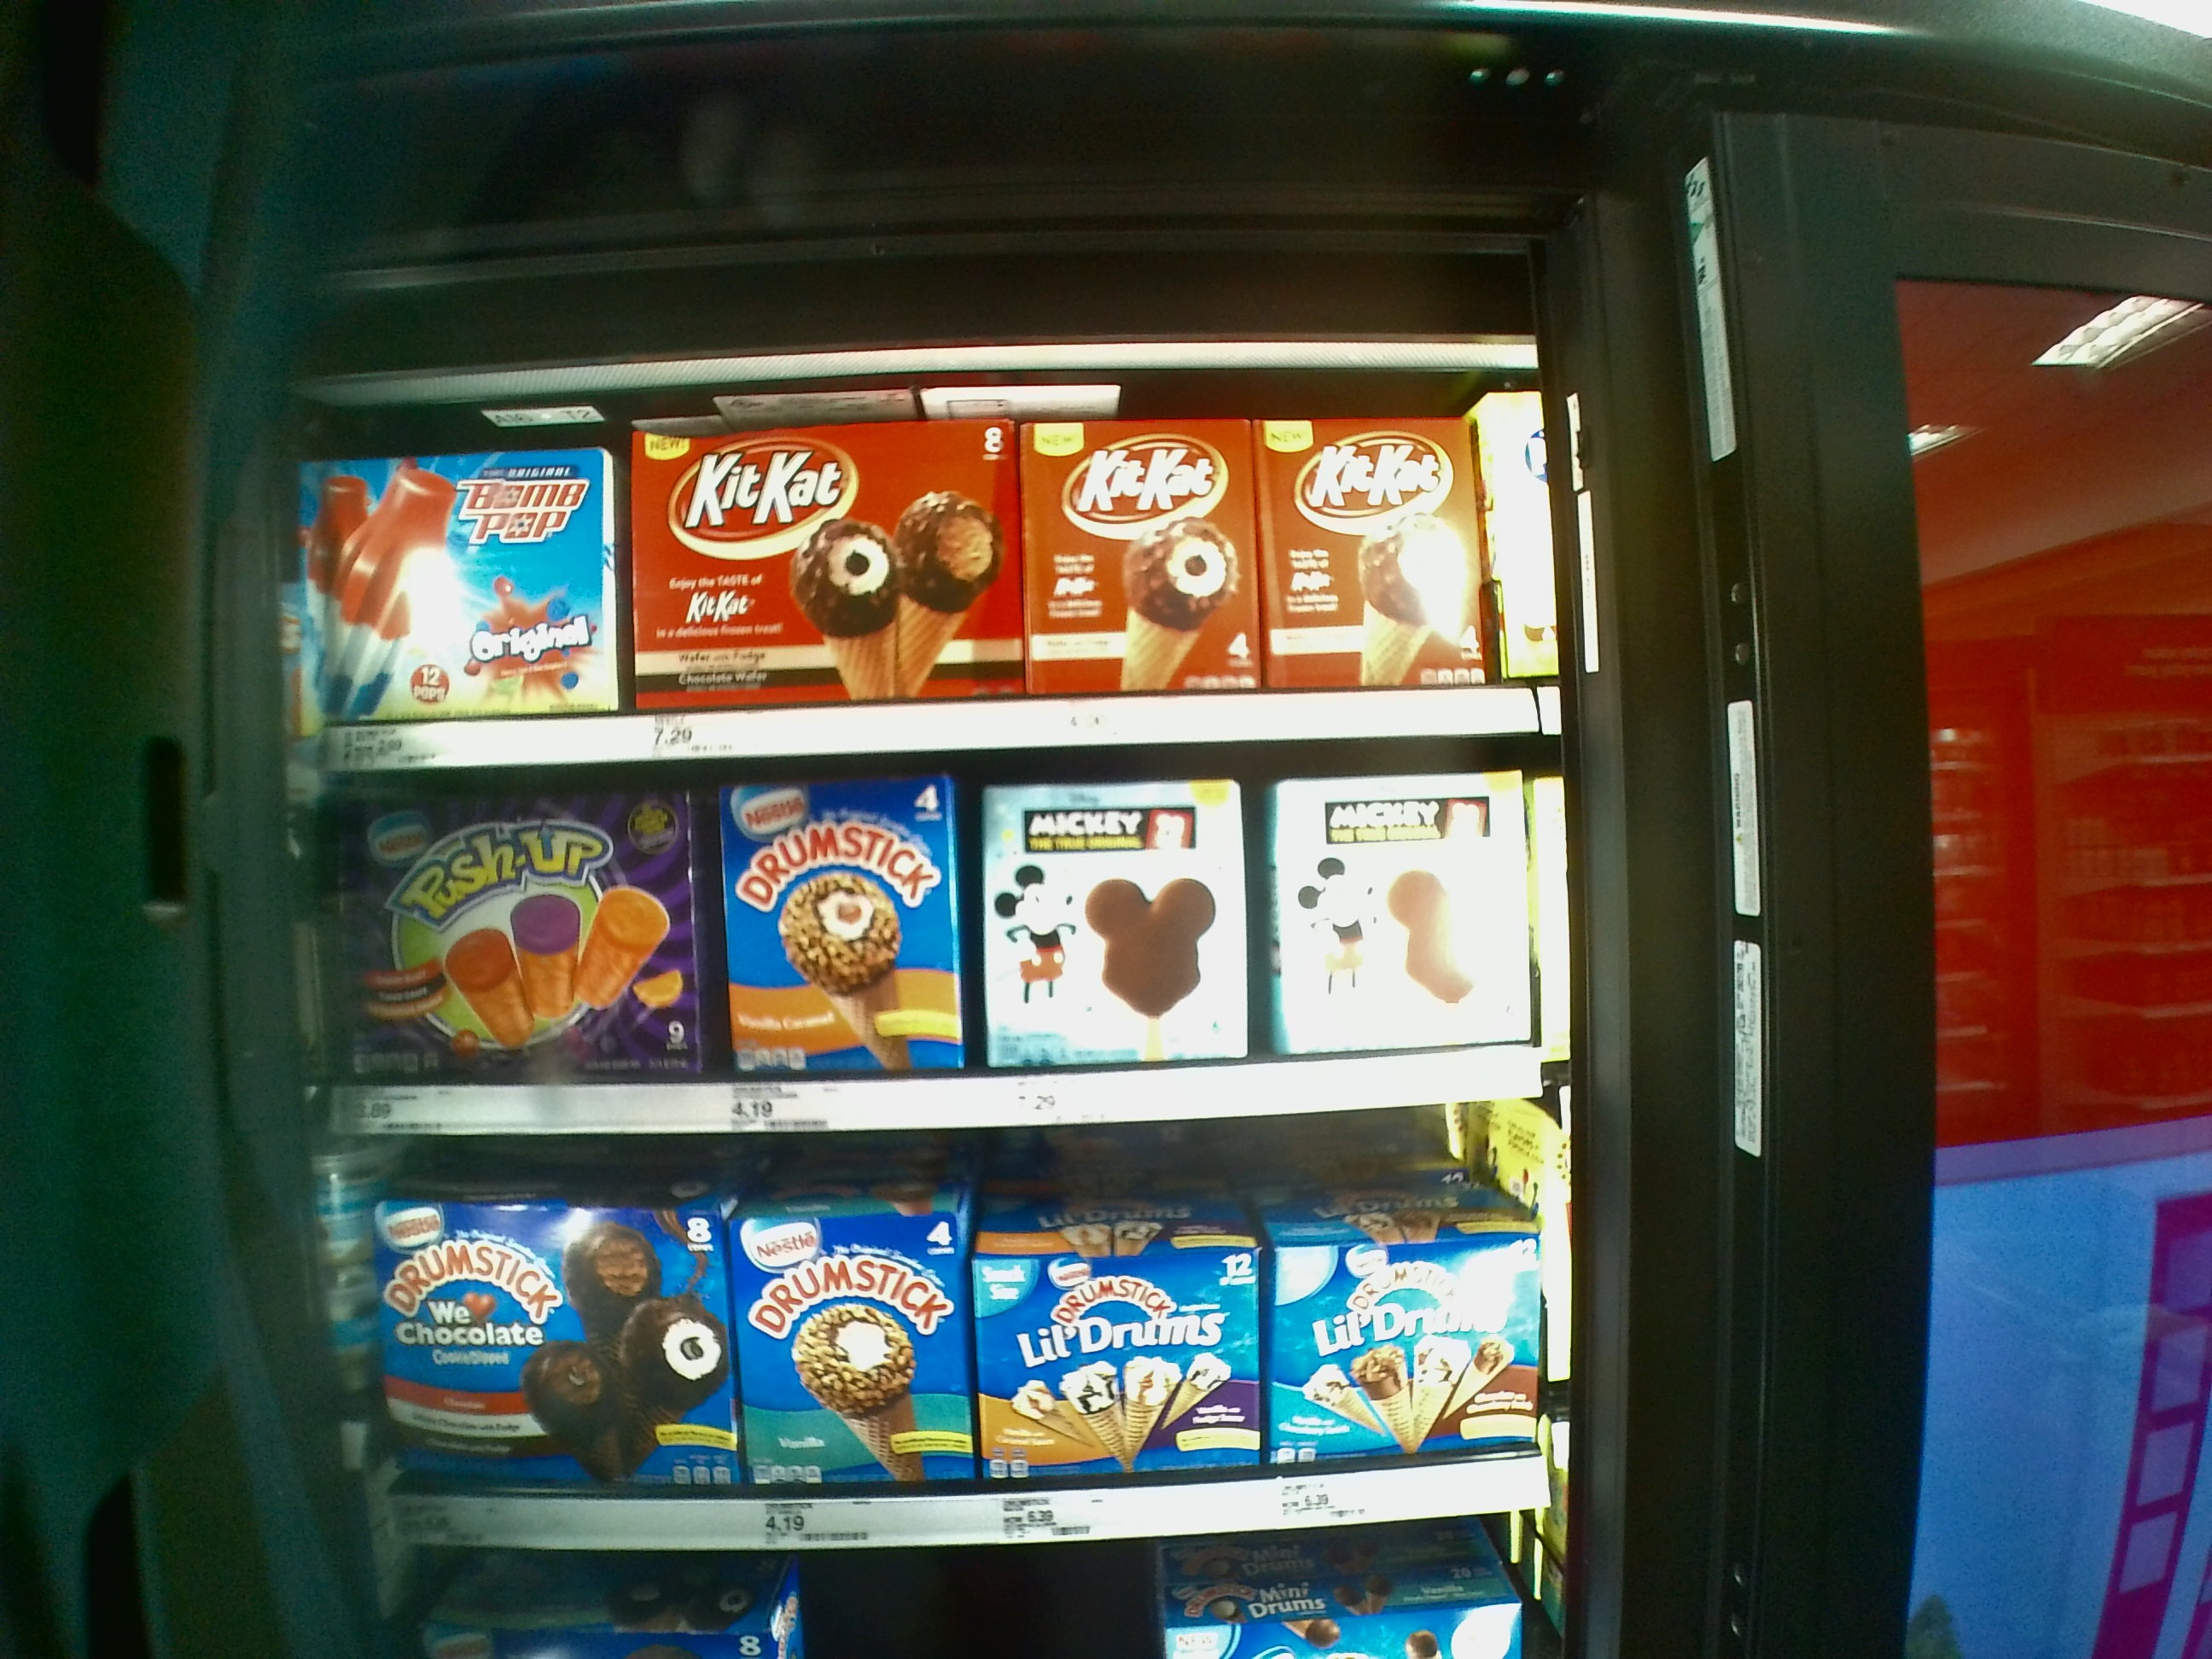shelf: (352, 1143, 1573, 1539), (287, 380, 1575, 749), (315, 762, 1569, 1134)
